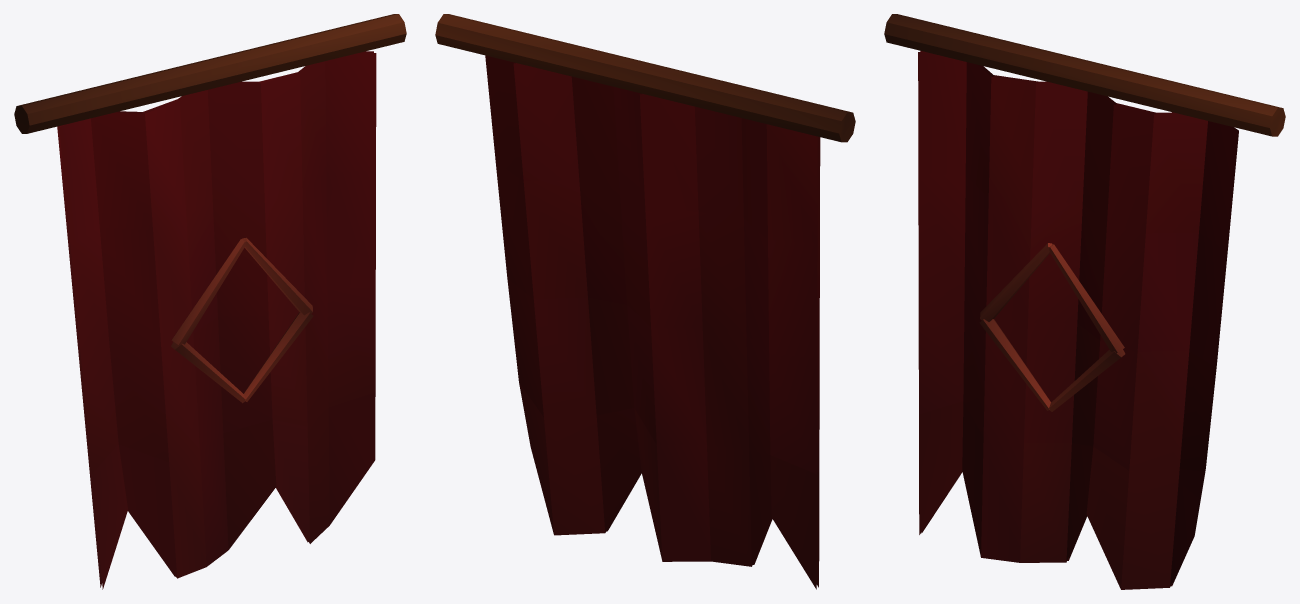
File: Banner.fbx
3 views of the same model, side by side, from view 1: azimuth 30°, elevation 25°; view 2: azimuth 150°, elevation 25°; view 3: azimuth 330°, elevation 25° (orthographic). The views are drawn at different scales.
Visible parts, largest first — view 1: RuinsPaint.RuinsPaint; view 2: RuinsPaint.RuinsPaint; view 3: RuinsPaint.RuinsPaint.
Boxes of the visible parts, box(x1,y1,x2,y2) form: RuinsPaint.RuinsPaint: box(14, 14, 406, 589); RuinsPaint.RuinsPaint: box(435, 14, 855, 589); RuinsPaint.RuinsPaint: box(884, 14, 1285, 589).
Bounding box in the file's own units: 1.44 × 1.74 × 0.285.
